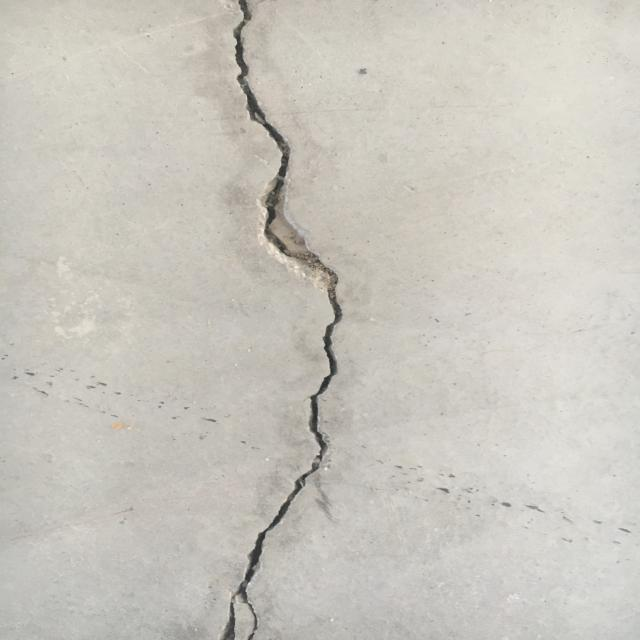Rachadura: (218, 0, 344, 640)
